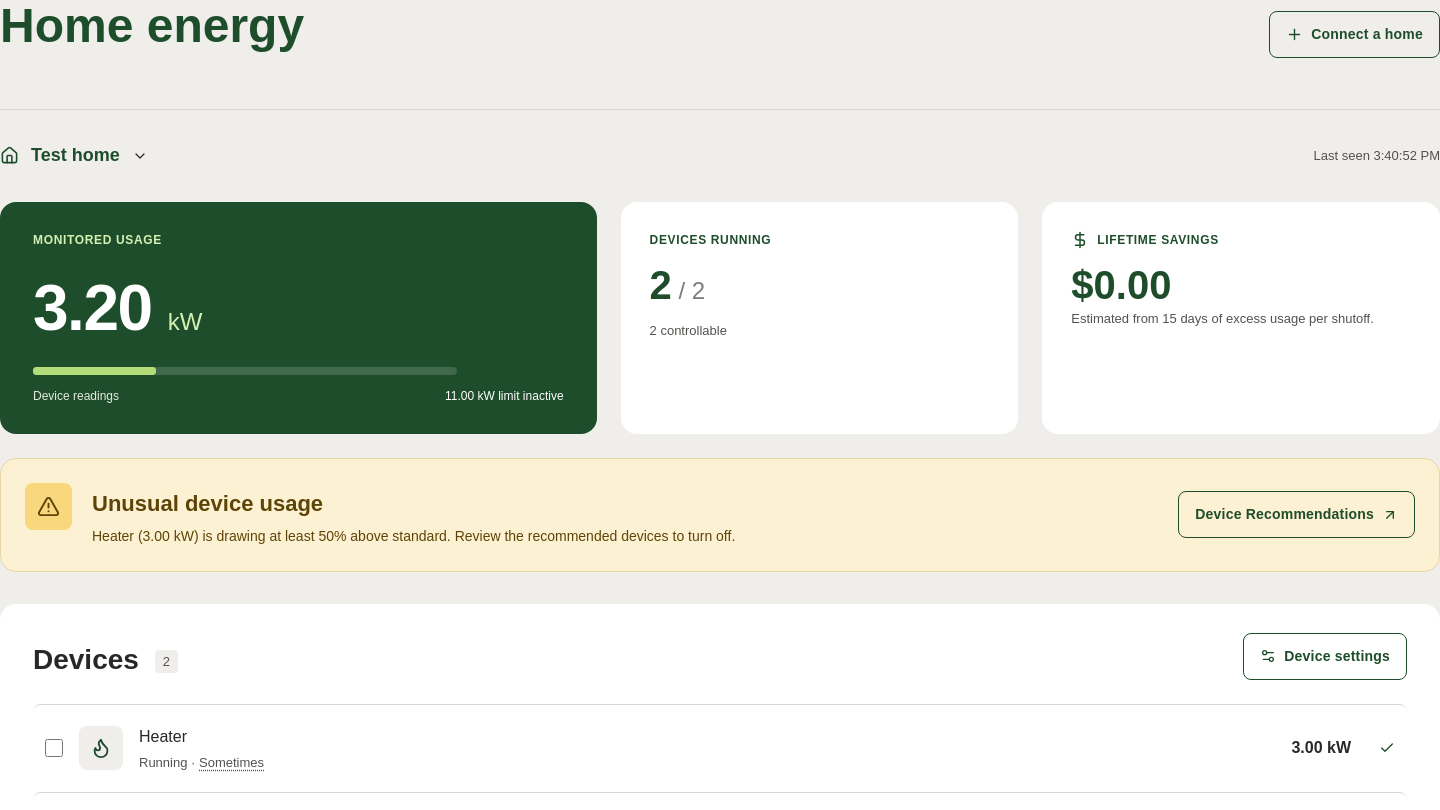
Scenario: opens the existing recommendations dialog and turns off only the affected device at low grid risk
Expected: the text "Heater (3.00 kW)" is shown, left=92, top=528, right=735, bottom=544
Click the button "Device Recommendations" at coordinates (1297, 515), box left=1178, top=491, right=1415, bottom=538
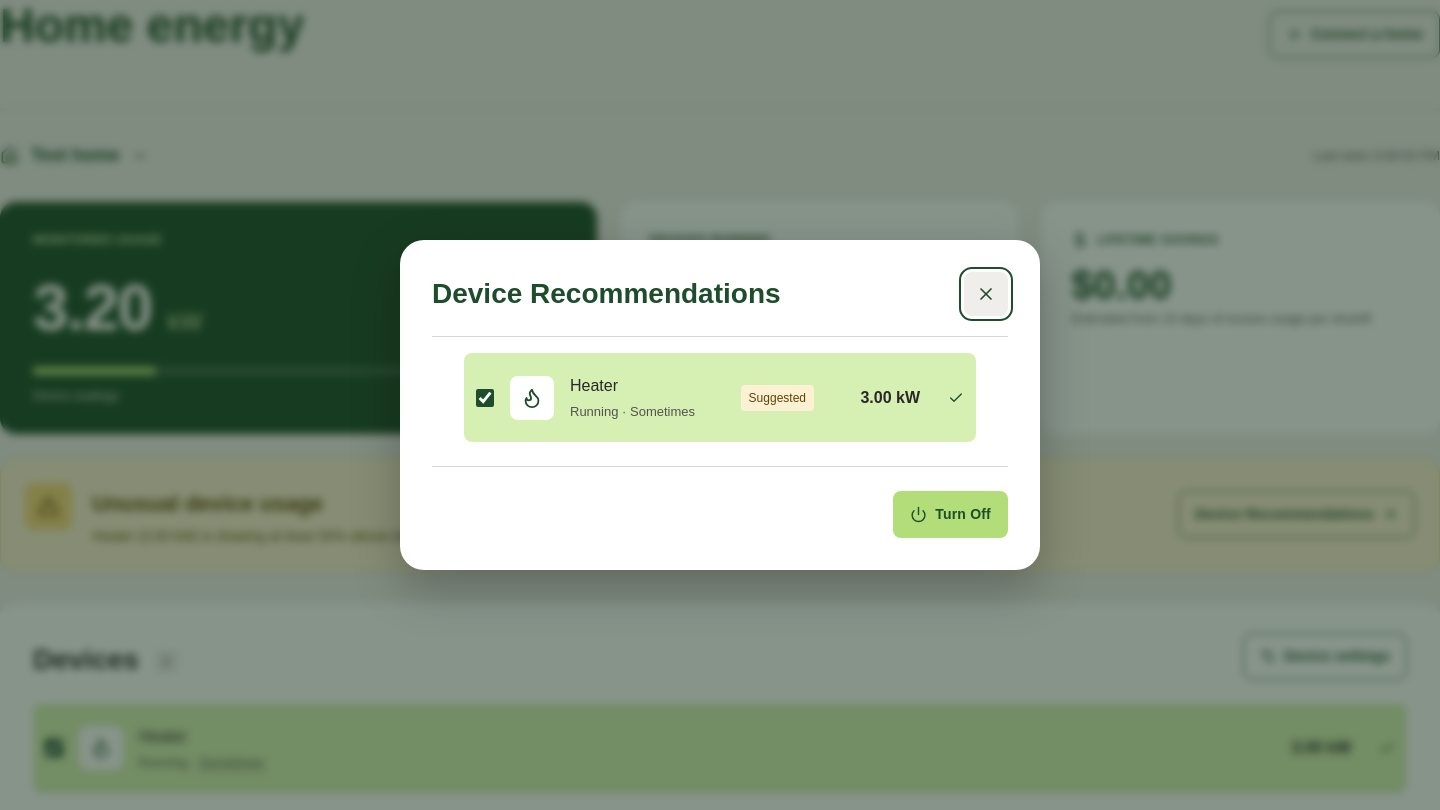
Now the checkbox named "Select Heater" is checked, box left=476, top=389, right=494, bottom=407
Click the button "Turn Off" at coordinates (951, 514), box left=893, top=491, right=1008, bottom=538
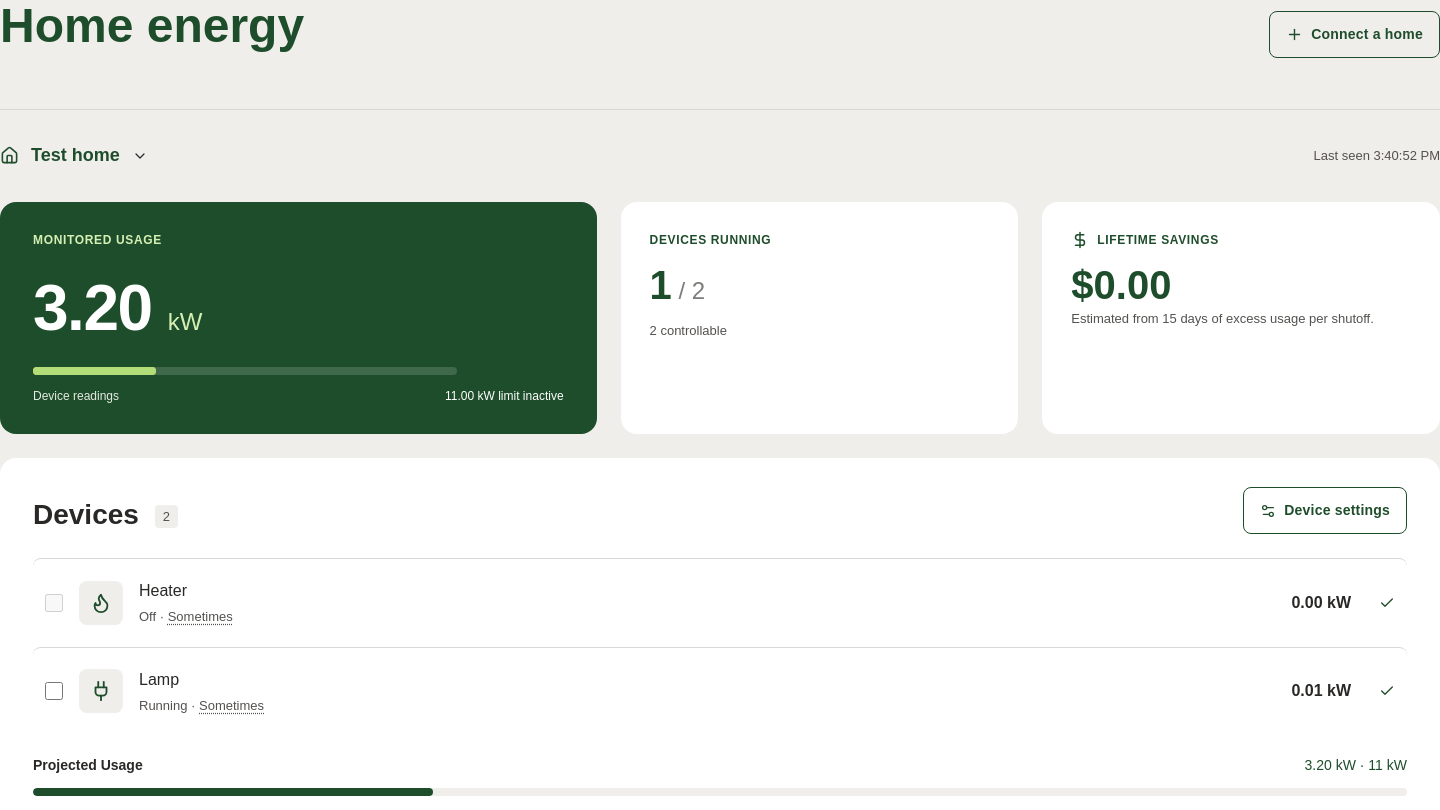
Now the dialog is gone
Now the heading "Unusual device usage" is gone
